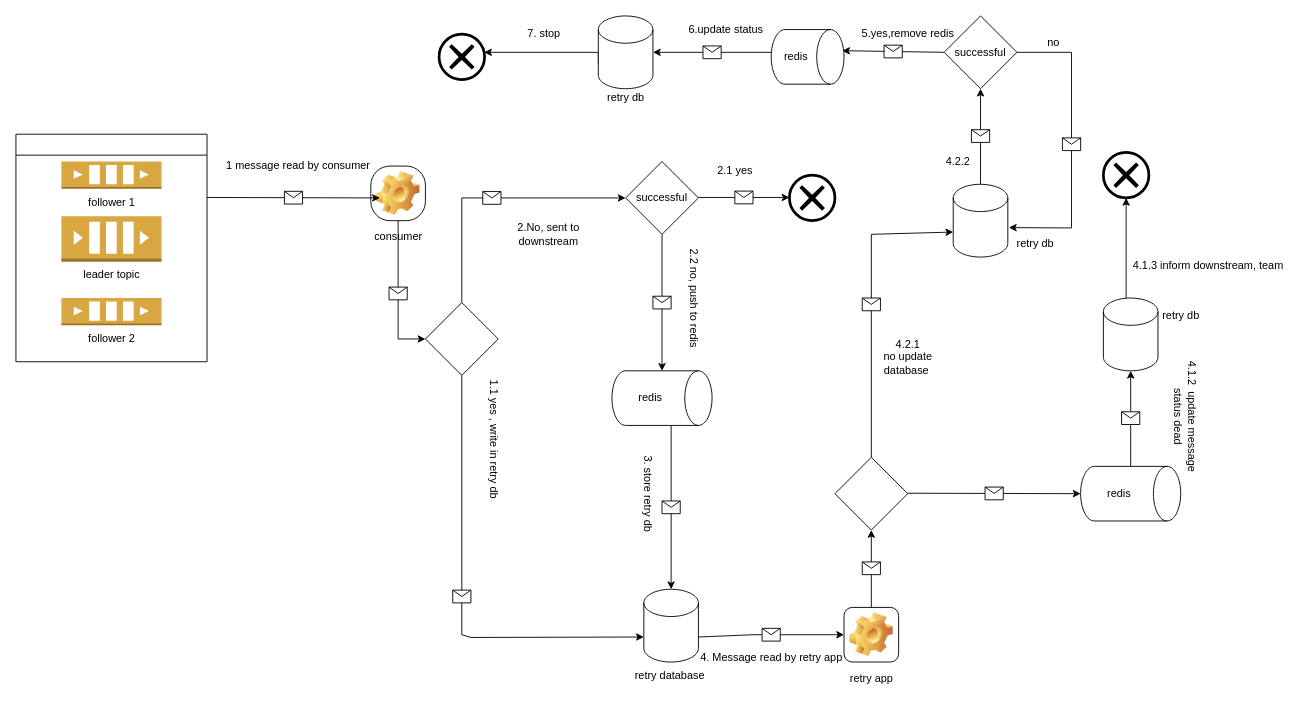
Some shapes in this 1310 by 705 pixel diagram are drawn without their labels. The box of each missing label's shape, as (x1, y1, x2, y2) in pixels:
attempt >3: (834, 456, 908, 530)
available in redis store: (425, 302, 498, 375)
Kafka Brokers: (15, 133, 207, 362)
